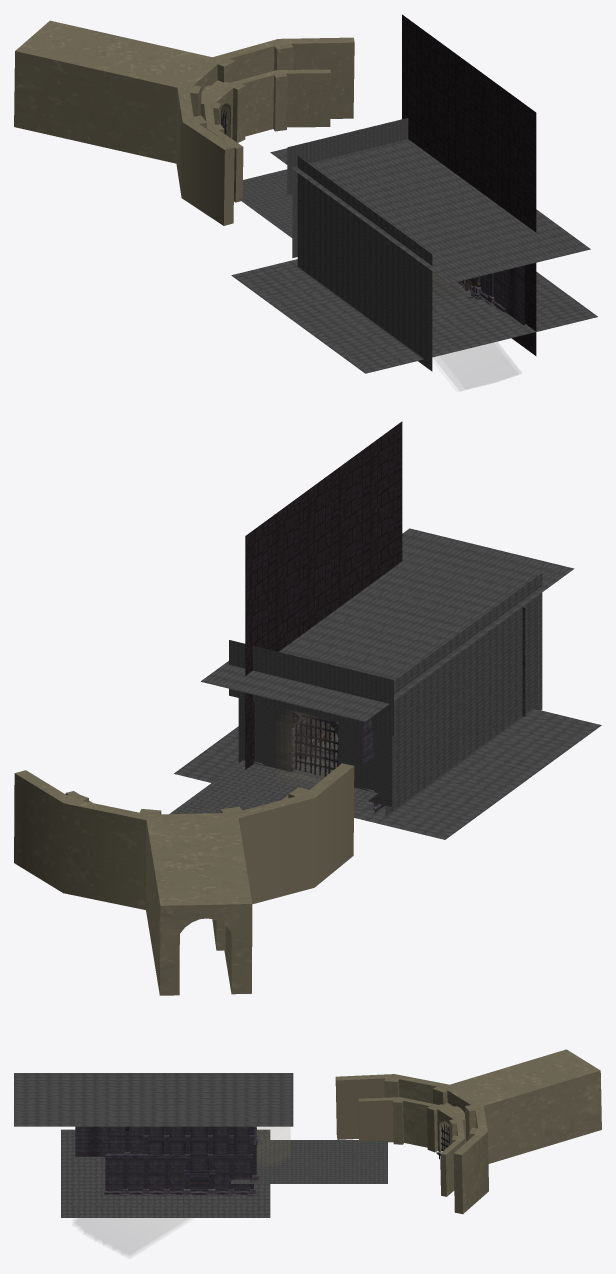
The model's file is bf_home_default.glb.
The picture shows the model from 3 angles, top to bottom: view 1: azimuth 30°, elevation 25°; view 2: azimuth 150°, elevation 25°; view 3: azimuth 270°, elevation 25°; orthographic projection. The views are drawn at different scales.
Parts seen in each view (by area): view 1: colliseum (1), Floor_01 (1) (×2), Floor_01 (2) (×2), Cube (1), colliseum, Floor_01 (4), metal_fence_light_ray_meshv2, wall_13_meld (4), wall_13 (2); view 2: colliseum (1), Floor_01 (1) (×2), Floor_01 (2) (×2), Cube (1), Floor_01 (4), Floor_01 (5), Floor_01 (6), metal_fence_light_ray_meshv2, metalFence_meld; view 3: Floor_01 (2) (×2), colliseum (1), Floor_01 (1), colliseum, metal_fence_light_ray_meshv2, wall_13 (2), wall_13 (1), wall_13, wall_13 (3), wall_13_meld (3).
Boxes of the visible parts, x1=… form: colliseum (1): x1=14, y1=20, x2=354, y2=225; Floor_01 (1) (×2): x1=231, y1=156, x2=597, y2=373; Floor_01 (2) (×2): x1=239, y1=139, x2=590, y2=283; Cube (1): x1=402, y1=14, x2=536, y2=355; colliseum: x1=200, y1=69, x2=330, y2=202; Floor_01 (4): x1=287, y1=118, x2=408, y2=194; metal_fence_light_ray_meshv2: x1=433, y1=272, x2=518, y2=389; wall_13_meld (4): x1=504, y1=269, x2=524, y2=325; wall_13 (2): x1=472, y1=270, x2=505, y2=312; colliseum (1): x1=14, y1=763, x2=354, y2=995; Floor_01 (1) (×2): x1=174, y1=573, x2=601, y2=839; Floor_01 (2) (×2): x1=169, y1=528, x2=574, y2=814; Cube (1): x1=245, y1=421, x2=402, y2=769; Floor_01 (4): x1=229, y1=640, x2=393, y2=735; Floor_01 (5): x1=338, y1=722, x2=391, y2=806; Floor_01 (6): x1=238, y1=698, x2=291, y2=772; metal_fence_light_ray_meshv2: x1=286, y1=712, x2=337, y2=782; metalFence_meld: x1=295, y1=717, x2=338, y2=776; Floor_01 (2) (×2): x1=14, y1=1073, x2=387, y2=1183; colliseum (1): x1=335, y1=1049, x2=601, y2=1214; Floor_01 (1): x1=61, y1=1129, x2=270, y2=1217; colliseum: x1=358, y1=1097, x2=466, y2=1196; metal_fence_light_ray_meshv2: x1=75, y1=1127, x2=289, y2=1254; wall_13 (2): x1=104, y1=1153, x2=150, y2=1195; wall_13 (1): x1=148, y1=1155, x2=192, y2=1195; wall_13: x1=212, y1=1155, x2=256, y2=1195; wall_13 (3): x1=107, y1=1126, x2=143, y2=1154; wall_13_meld (3): x1=75, y1=1126, x2=107, y2=1156.
Bounding box in the file's own units: 23.33 × 24.94 × 56.24.
Materials: 9 (9 with a texture image).
